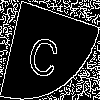C: (24, 25, 65, 81)
